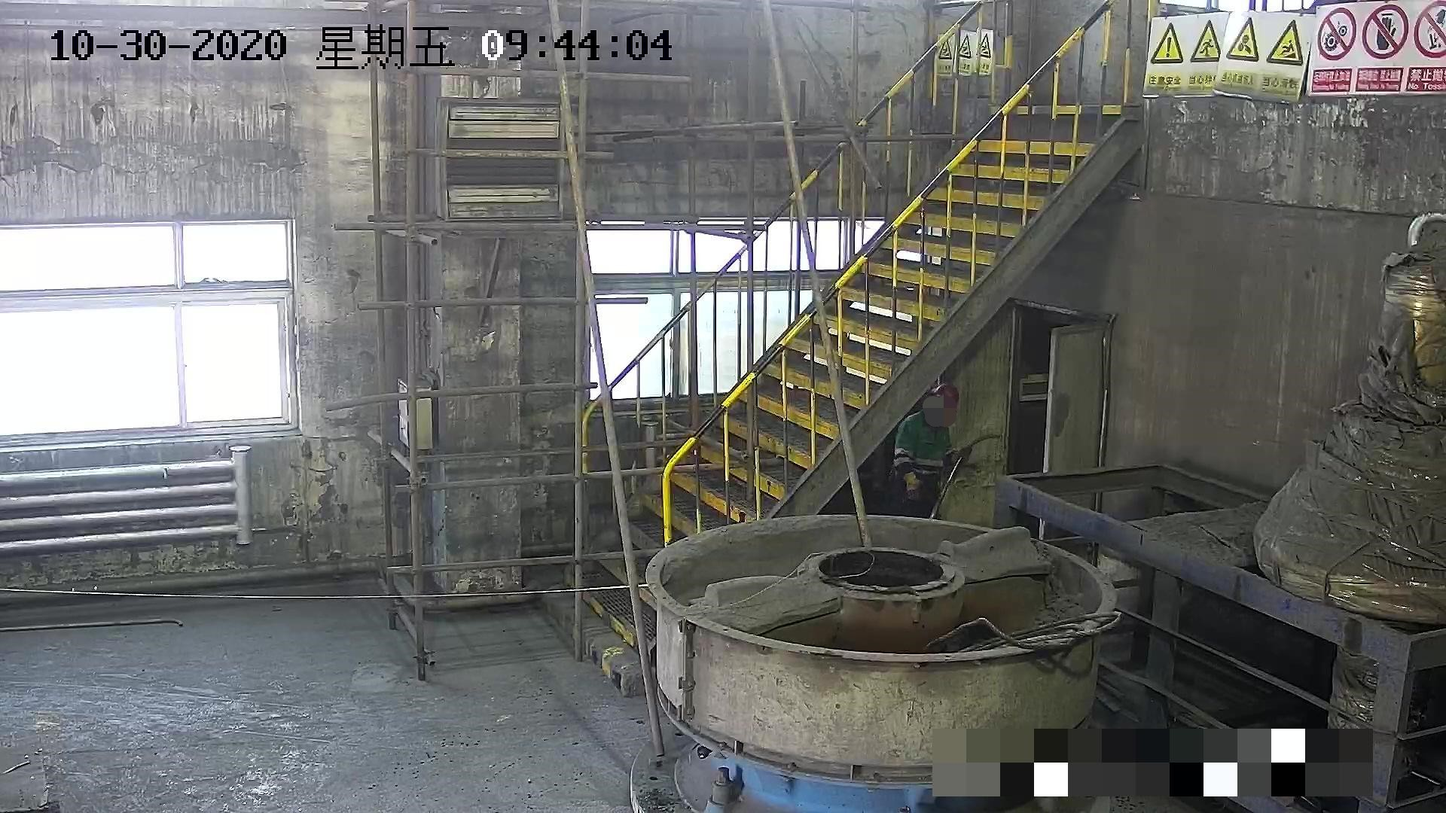hat: (925, 382, 959, 423)
person: (886, 380, 966, 521)
